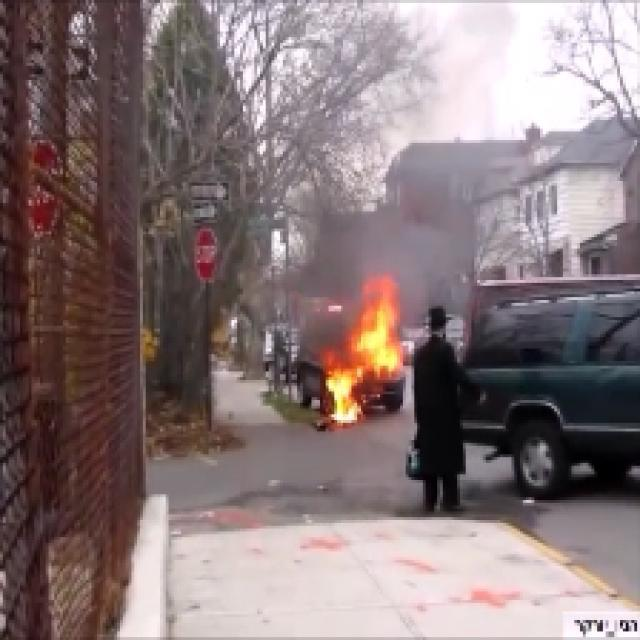Fire: (294, 268, 420, 438)
Smoke: (297, 0, 506, 303)
